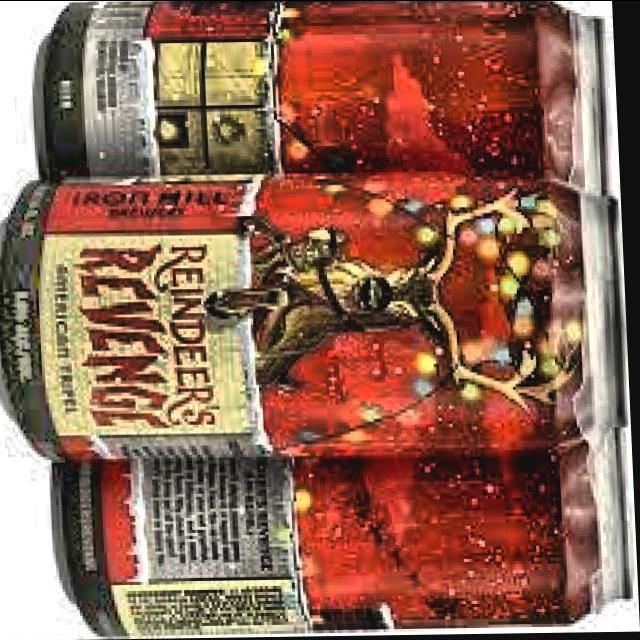litter: (0, 166, 634, 472), (29, 0, 626, 239), (39, 428, 640, 640)
